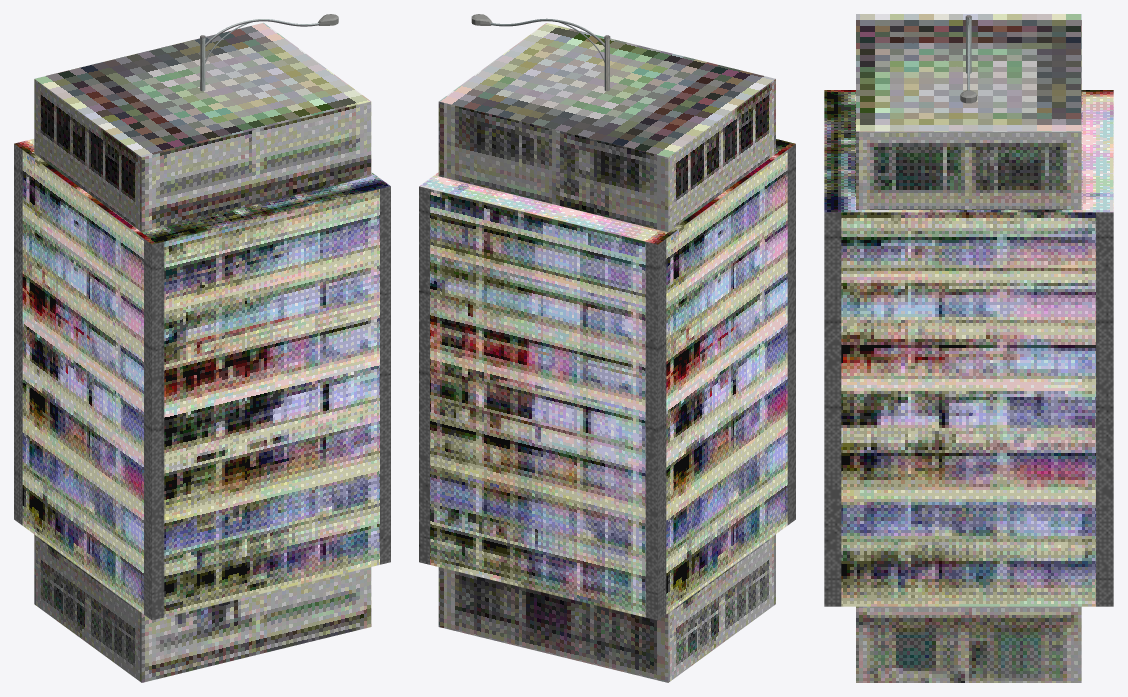
File: SingleStreetlight.glb
The picture shows the model from 3 angles, left to right: view 1: azimuth 30°, elevation 25°; view 2: azimuth 150°, elevation 25°; view 3: azimuth 270°, elevation 25°; orthographic projection. The views are drawn at different scales.
Parts seen in each view (by area): view 1: BuildingClassy, Building, Streetlight; view 2: BuildingClassy, Building, Streetlight; view 3: BuildingClassy, Building, Streetlight.
Boxes of the visible parts, box(x1,y1,x2,y2) form: BuildingClassy: box(14, 139, 390, 620); Building: box(34, 22, 371, 682); Streetlight: box(200, 14, 338, 91); BuildingClassy: box(419, 139, 795, 620); Building: box(438, 23, 775, 682); Streetlight: box(471, 14, 610, 91); BuildingClassy: box(824, 90, 1113, 606); Building: box(856, 14, 1081, 682); Streetlight: box(960, 15, 977, 103).
Size of what is drawn, in the model's own units: 36.13 by 79.29 by 33.94.
5 materials, 4 textured.
